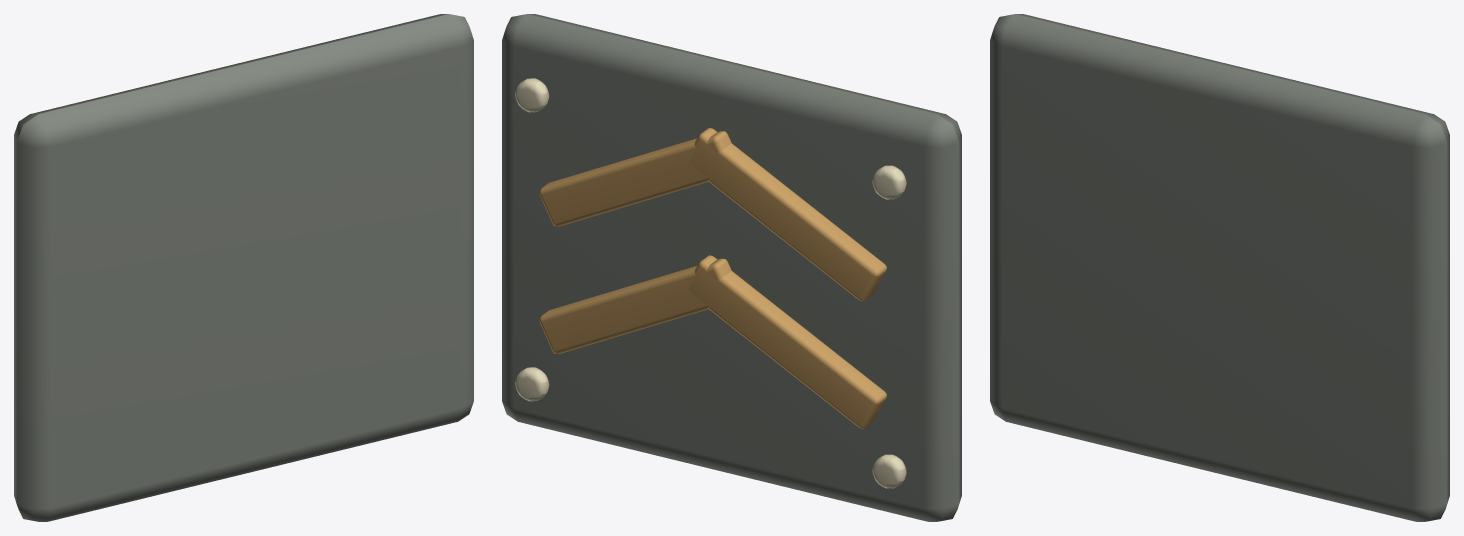
The model's file is STK-C03.fbx.
3 views of the same model, side by side, from view 1: azimuth 30°, elevation 25°; view 2: azimuth 150°, elevation 25°; view 3: azimuth 330°, elevation 25° (orthographic).
Parts seen in each view (by area): view 1: STK-C03_Edge; view 2: STK-C03_Edge, STK-C03_Brass, STK-C03_Marking; view 3: STK-C03_Edge.
Boxes of the visible parts, x1,y1,x2,y2 form: STK-C03_Edge: (14,14,473,521); STK-C03_Edge: (502,14,961,521); STK-C03_Brass: (539,128,886,428); STK-C03_Marking: (515,78,906,488); STK-C03_Edge: (990,14,1449,521).
Size of the model in its own units: 56 by 48 by 8.25.
